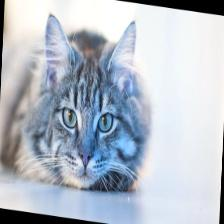kedo: (0, 16, 143, 191)
